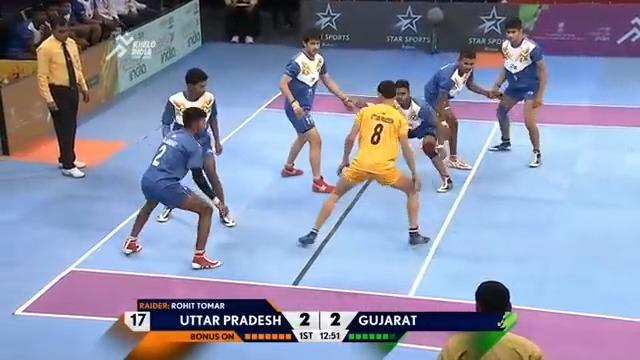Player: (121, 106, 235, 269), (278, 28, 357, 193), (156, 67, 235, 226), (423, 44, 503, 170), (488, 16, 547, 167), (392, 79, 453, 192)
Raider: (297, 79, 431, 248)
referee: (35, 15, 90, 178), (437, 279, 544, 359), (223, 0, 260, 43)
